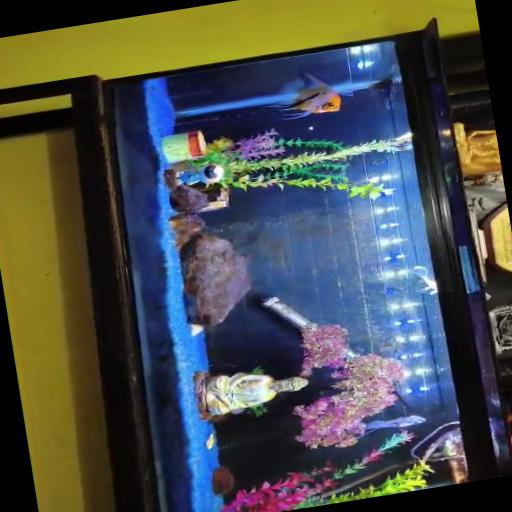Fish: (261, 73, 340, 119), (356, 415, 425, 438), (413, 266, 436, 295), (204, 434, 214, 449)
